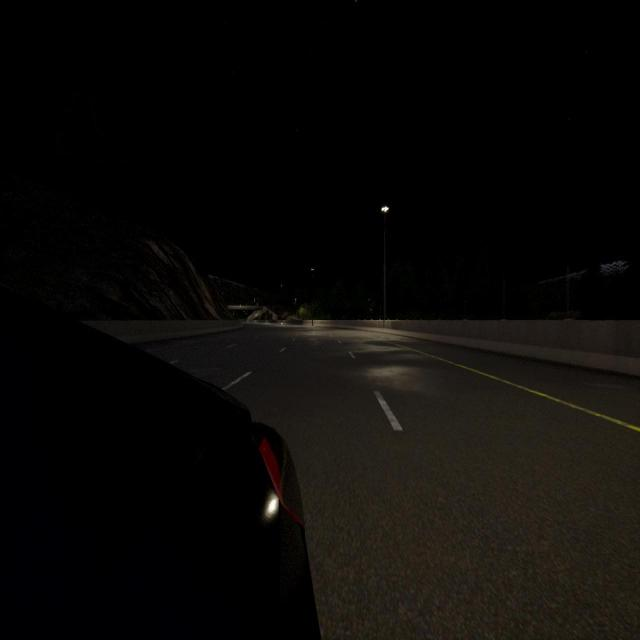Vehicle: (0, 287, 320, 640)
